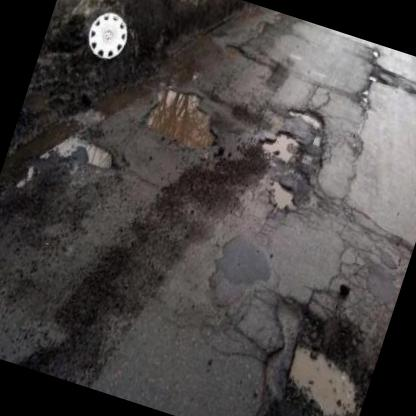pothole: (270, 299, 386, 416), (140, 79, 229, 157), (258, 122, 302, 166), (78, 135, 119, 173), (264, 176, 304, 214), (284, 101, 328, 133)
